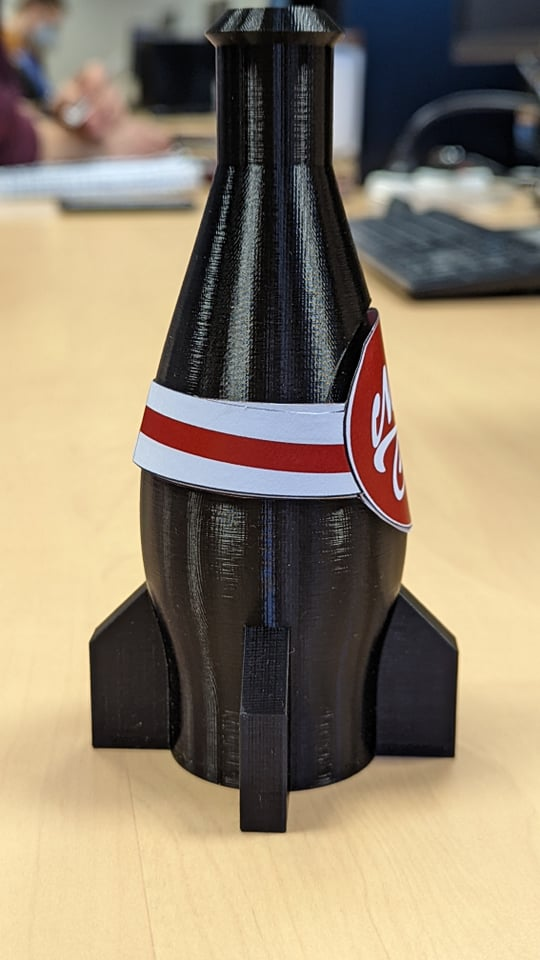bottle: (74, 18, 478, 846)
